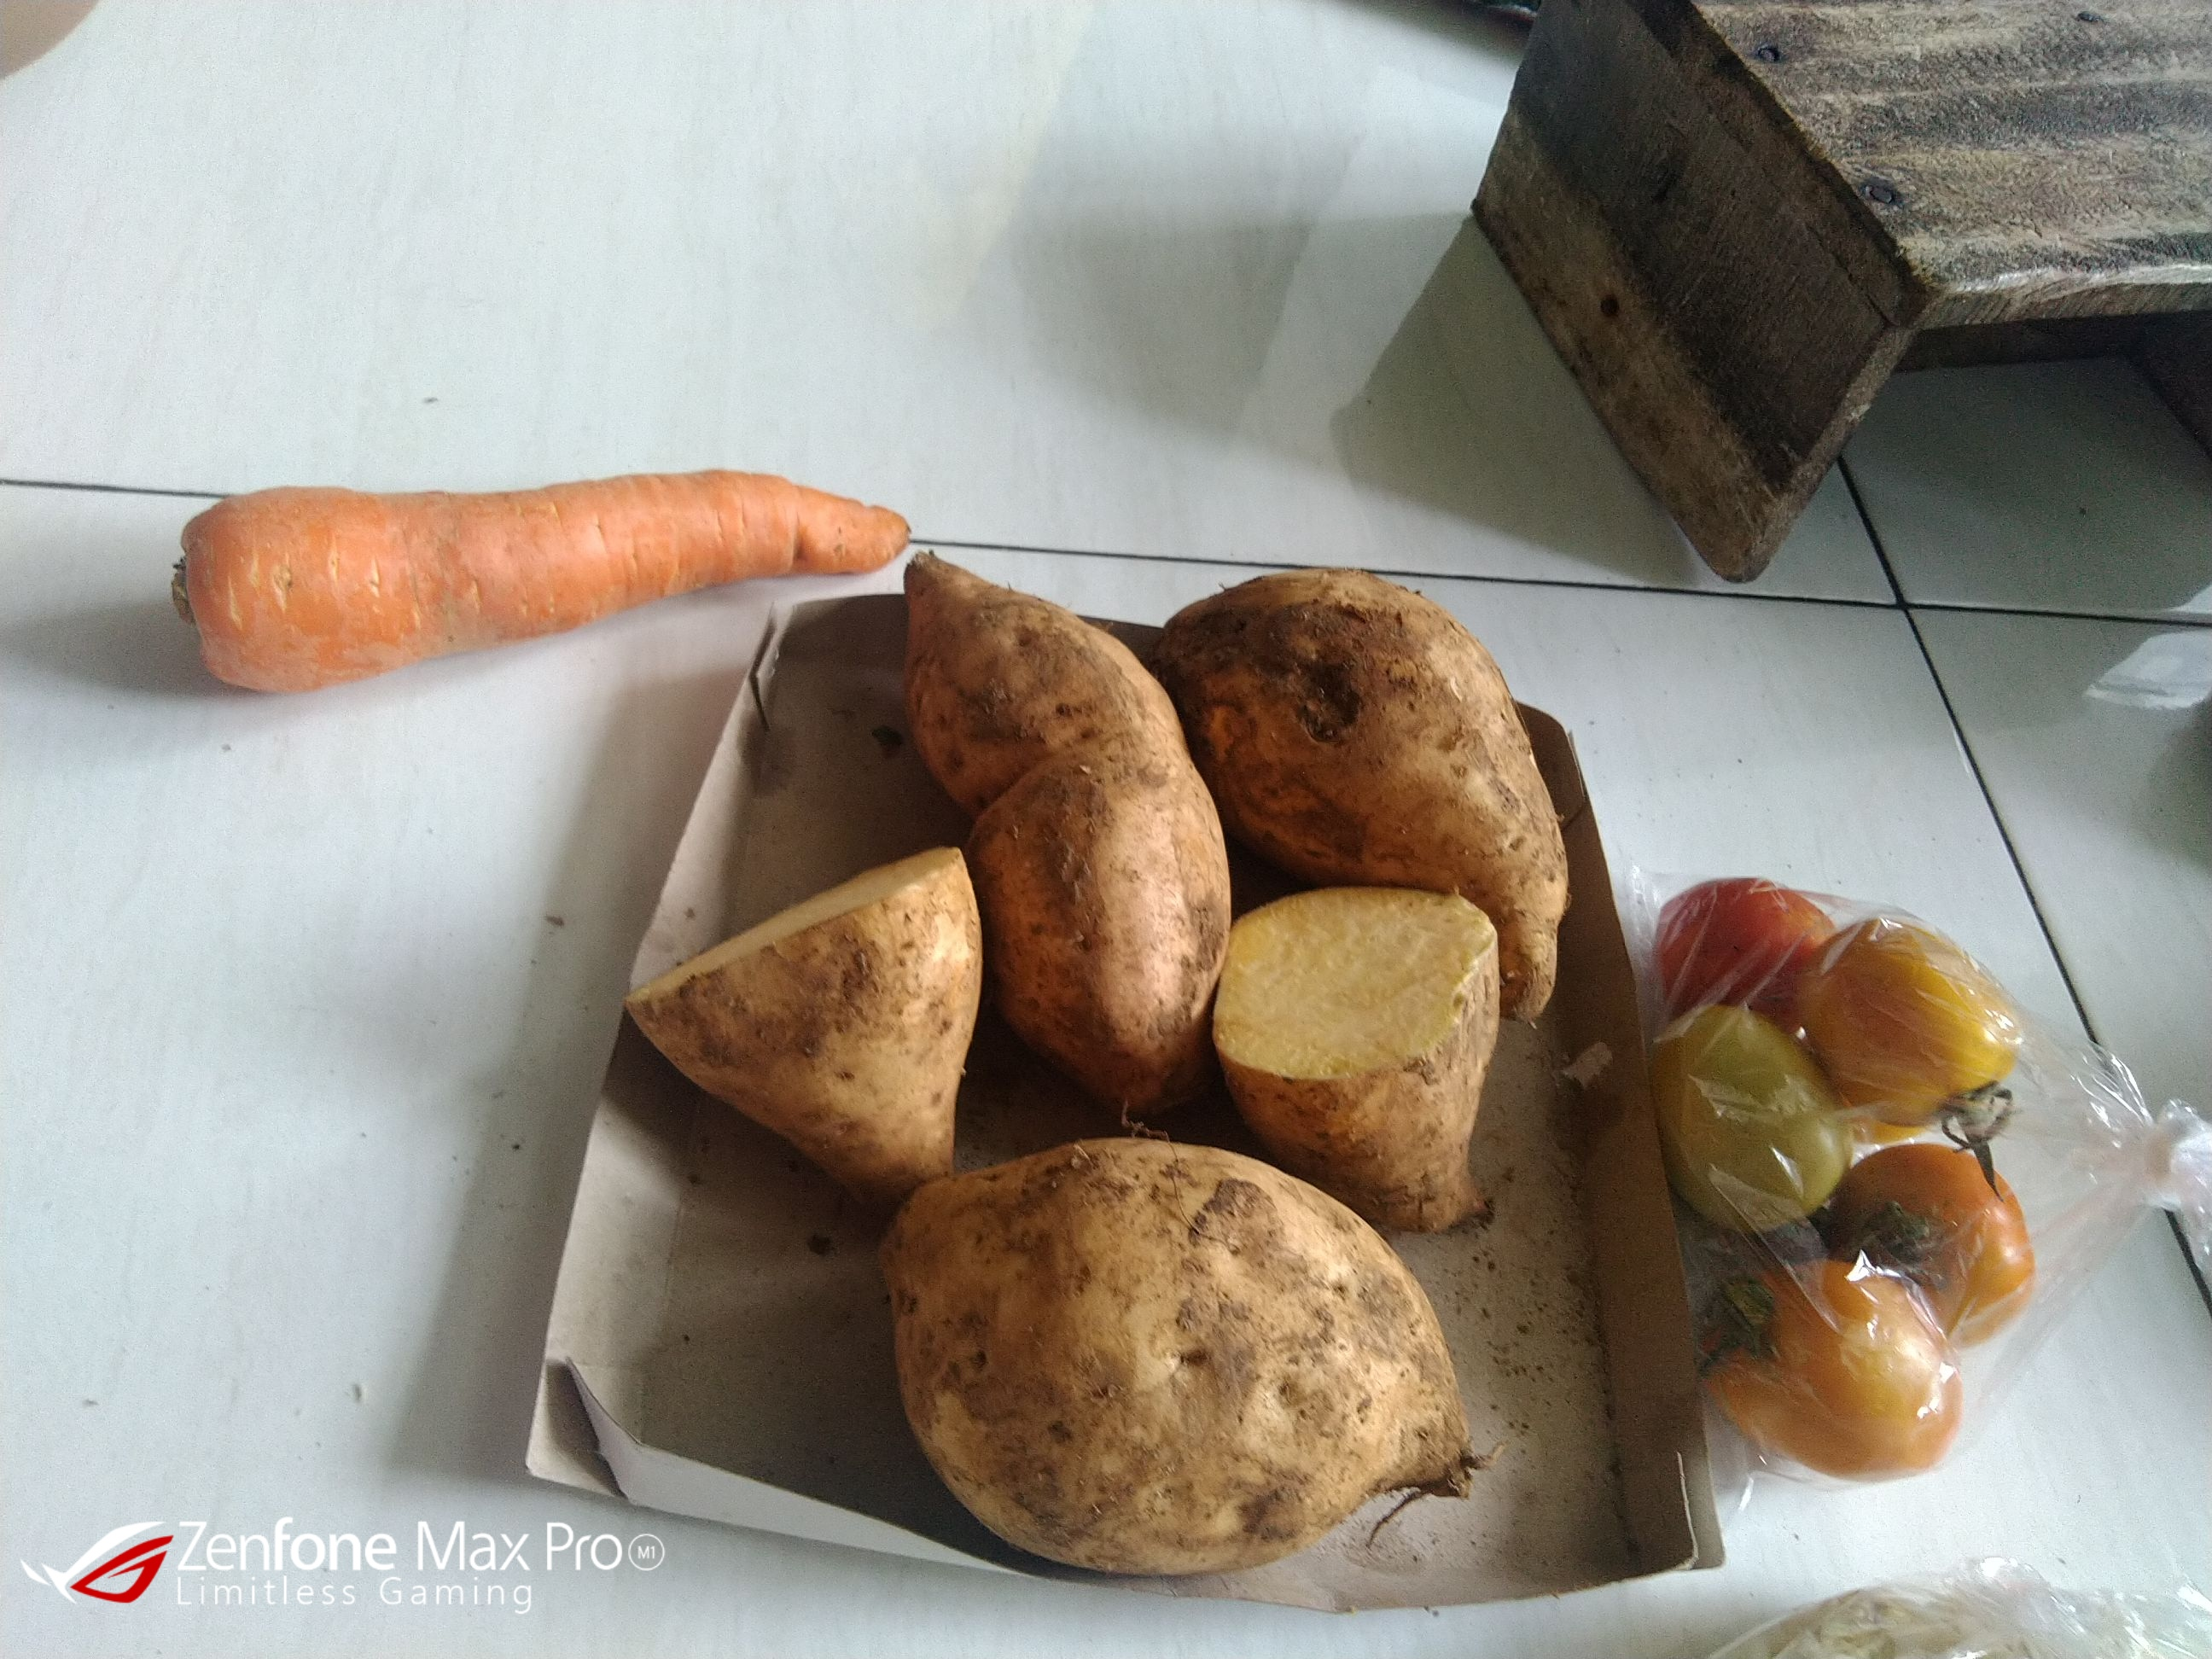ubi kuning: (857, 1127, 1500, 1554), (1165, 563, 1585, 1039), (890, 549, 1231, 1114), (606, 831, 996, 1202), (1211, 877, 1524, 1255)
